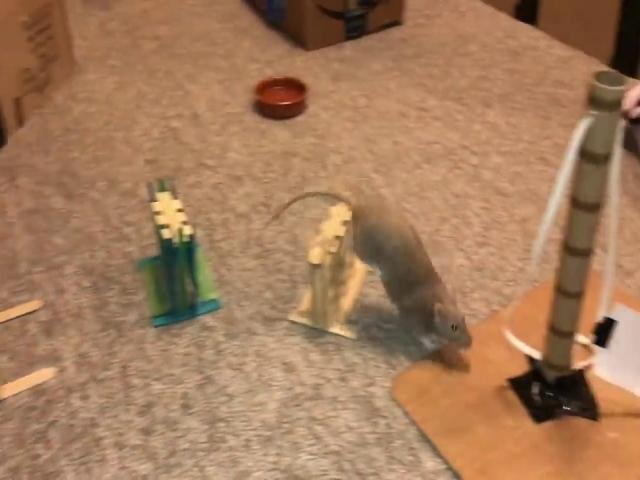Tikus: (348, 199, 474, 360)
